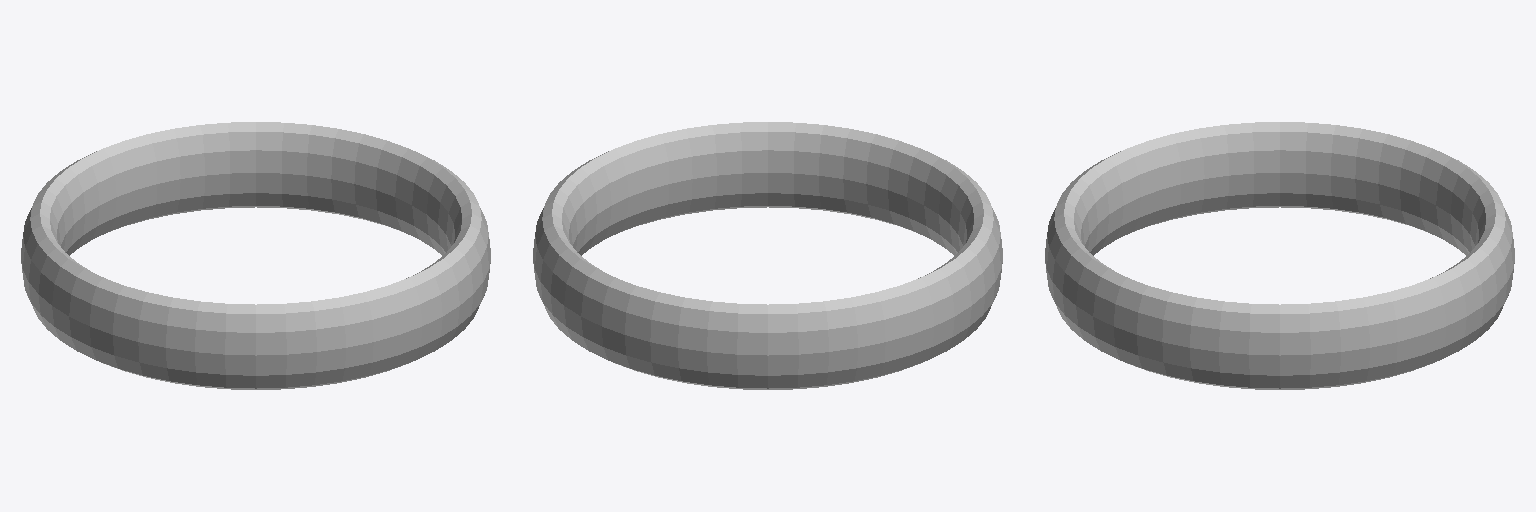
File: checkpoint.obj
3 views of the same model, side by side, from view 1: azimuth 30°, elevation 25°; view 2: azimuth 150°, elevation 25°; view 3: azimuth 270°, elevation 25° (orthographic).
Visible parts, largest first — view 1: Torus.005; view 2: Torus.005; view 3: Torus.005.
Part boxes in pixels (x1,y1,x2,y2): Torus.005: (21, 122, 490, 389); Torus.005: (533, 122, 1002, 389); Torus.005: (1045, 122, 1514, 389).
Bounding box in the file's own units: 13.05 × 2.62 × 13.05.